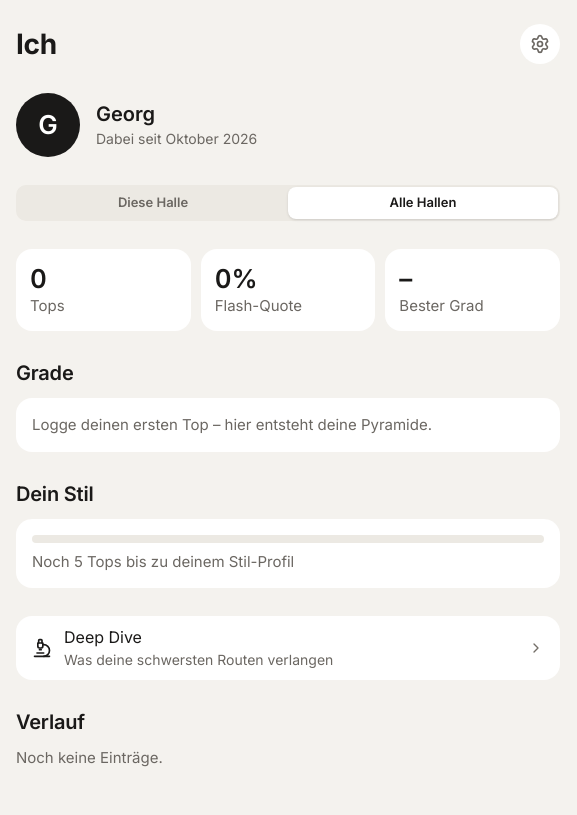
Scenario: SPEC-033: Sichtbarkeit und meine Daten › Einstellungen: Gruppe «Sichtbarkeit» mit Schalter und Vorschau (AC-1/F5)
The width and height of the screenshot is (577, 815).
Click the button with test id "open-settings-btn": (540, 44) x1=520 y1=24 x2=560 y2=64
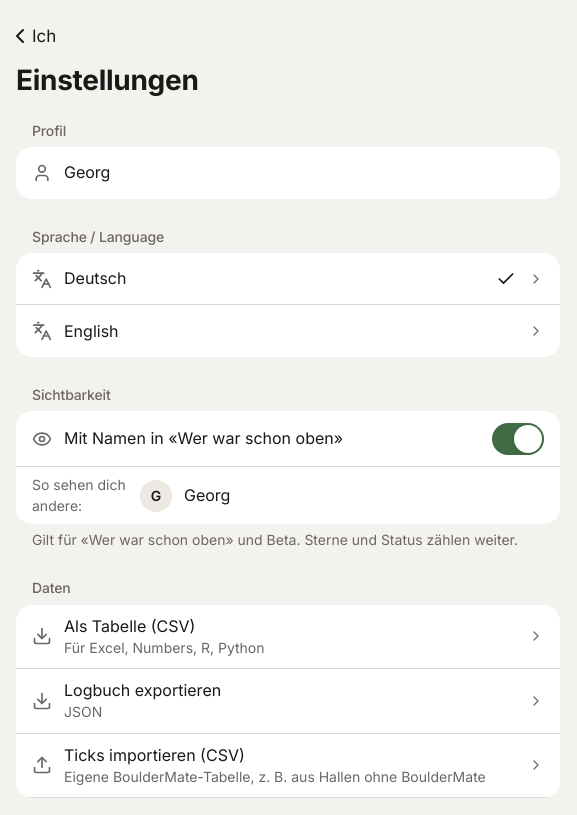
expect the text with test id "visibility-preview-name" reads "Georg": met, box x1=184 y1=485 x2=230 y2=505
Click the switch with test id "settings-show-in-lists": (288, 440) x1=16 y1=412 x2=560 y2=468
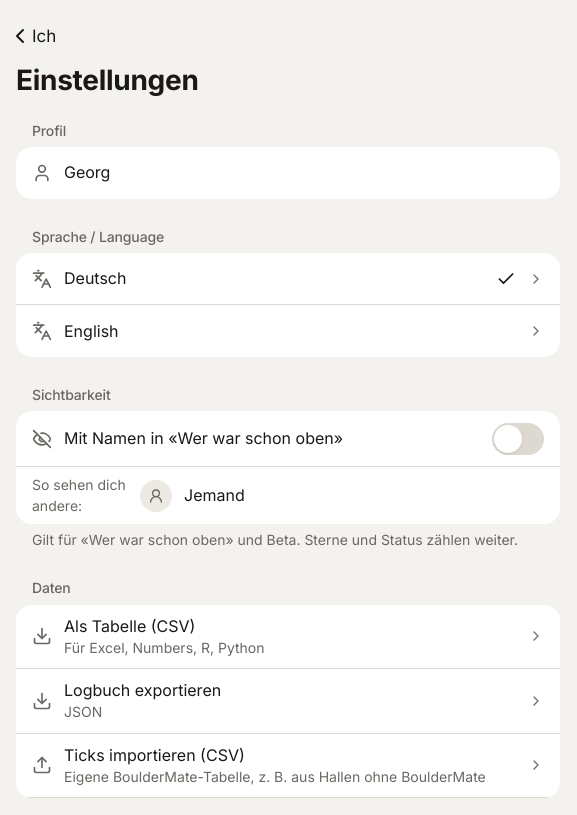
expect the button with test id "settings-export-csv" shows "Als Tabelle (CSV)": met, box x1=16 y1=605 x2=560 y2=669
expect the text with test id "visibility-preview-name" reads "Jemand": met, box x1=184 y1=485 x2=245 y2=505
